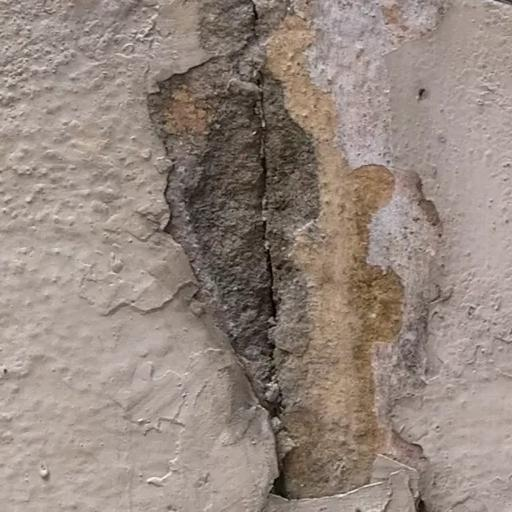spalling: (134, 21, 426, 502)
